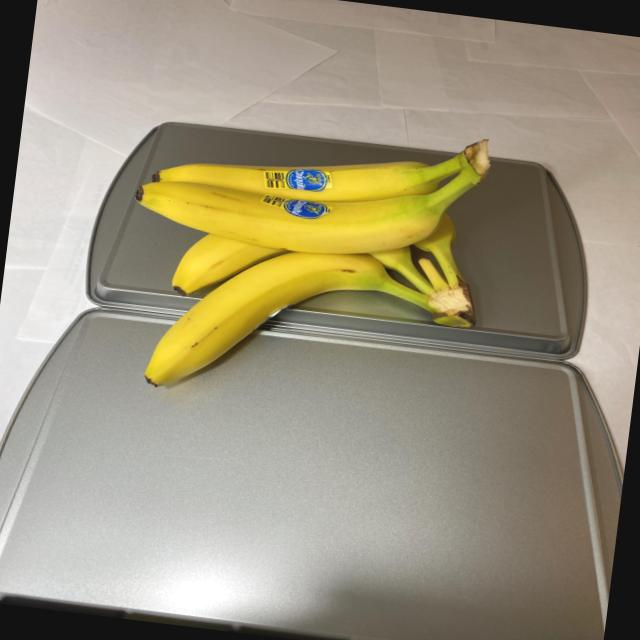banana: (109, 94, 506, 432)
